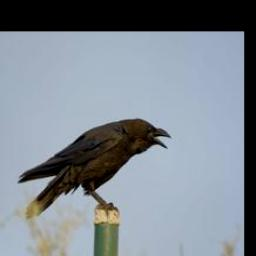Crow: (14, 112, 174, 219)
